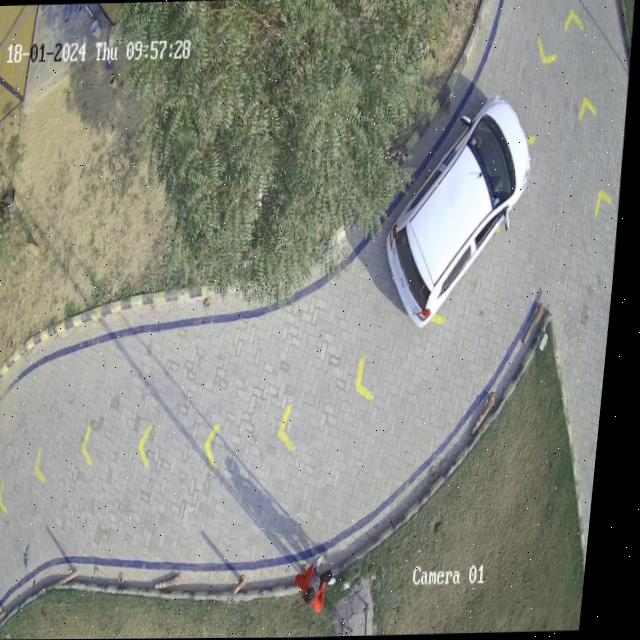car: (392, 96, 534, 325)
